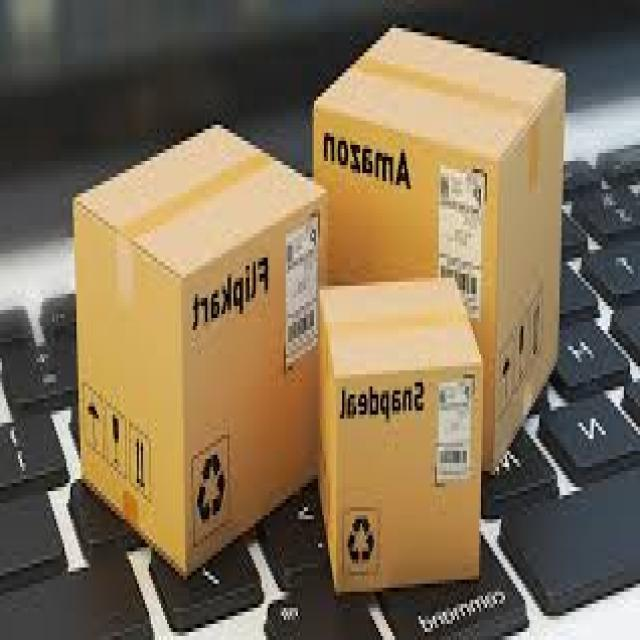cardboxes: (61, 124, 322, 574), (317, 53, 574, 470), (324, 282, 482, 598)
